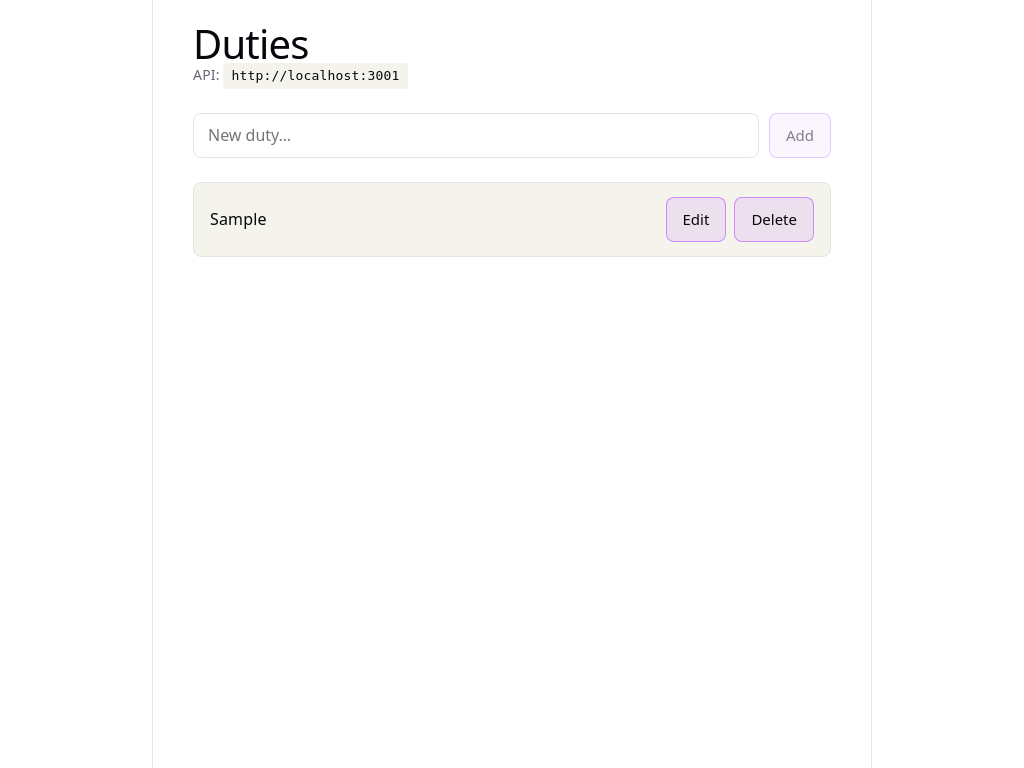
Test case: App › creates a duty from the form
Expected: the text "Sample" is shown, [210,208,267,230]
Type "New task" into the field named "duty name" at (476, 135), box [193,113,759,158]
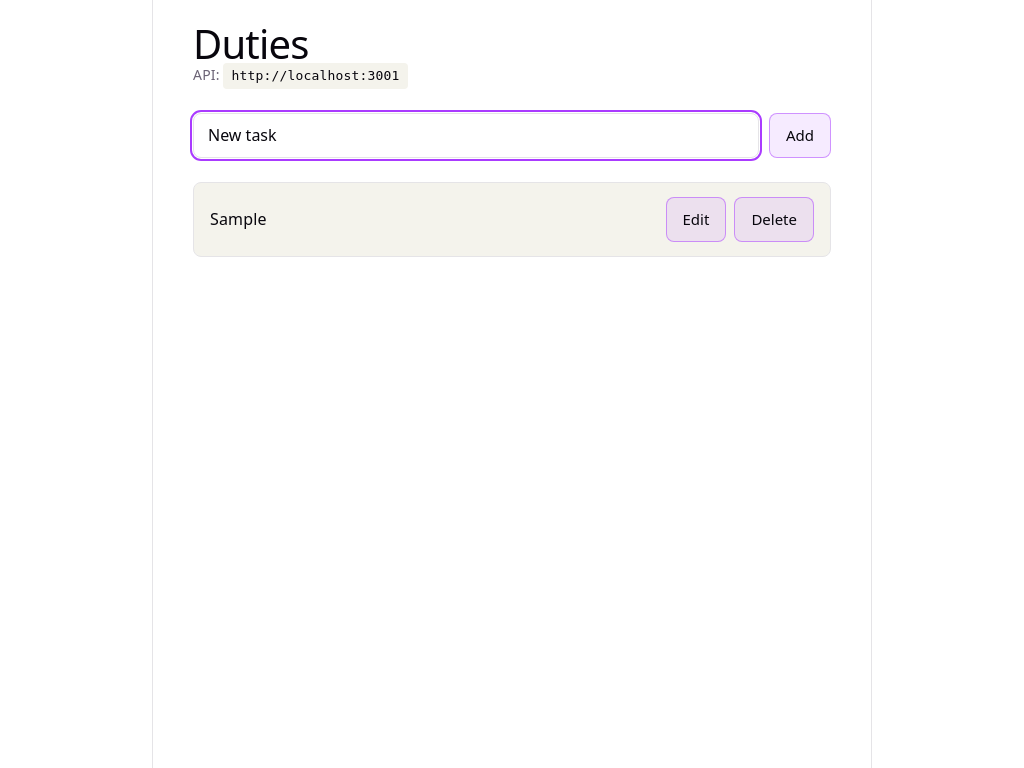
Click the button "Add" at (800, 135), box [769,113,831,158]
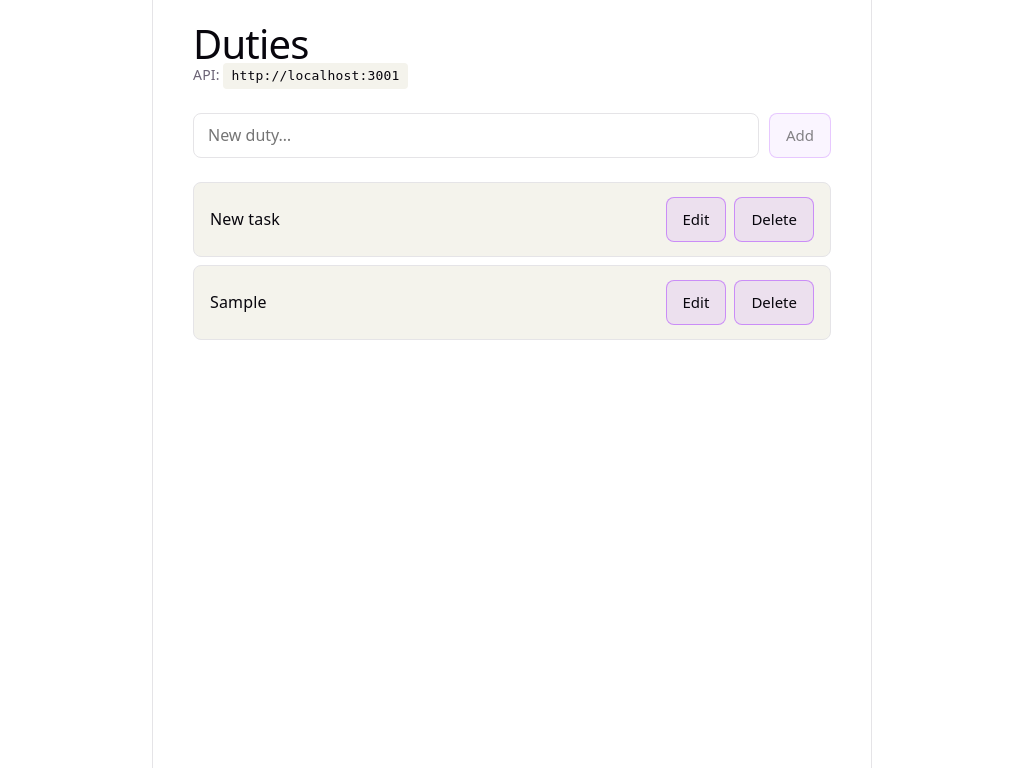
Expected: the text "New task" is shown, [210,208,280,230]
